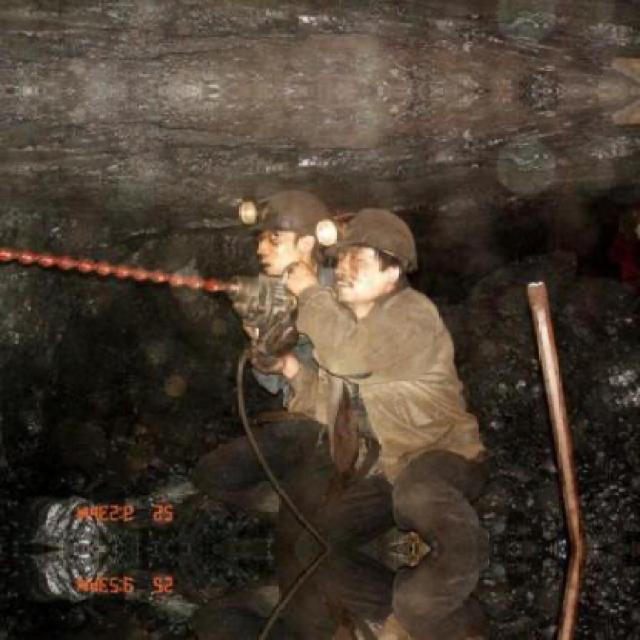helmet: (331, 202, 420, 305), (251, 185, 329, 271)
